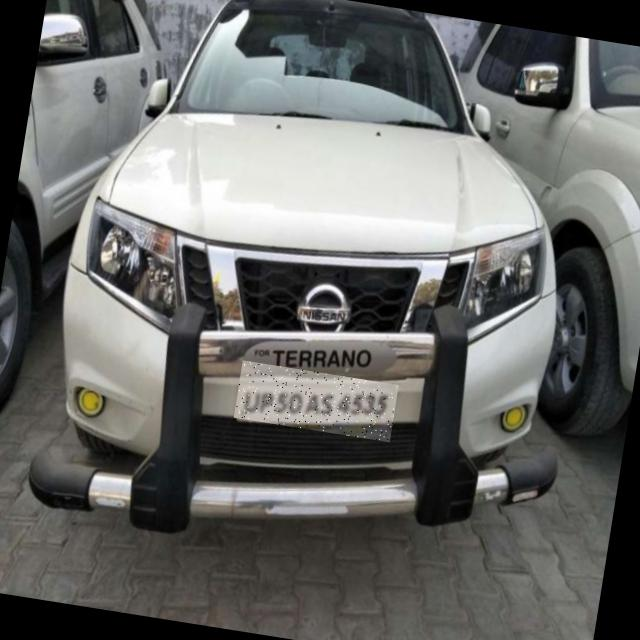Plate: (235, 362, 400, 444)
